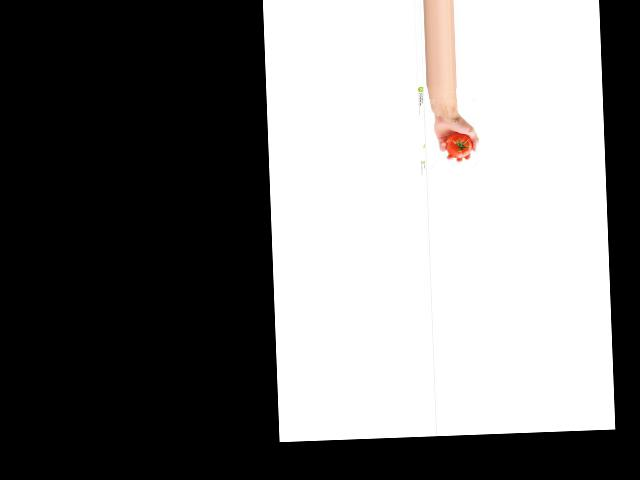tomato: (445, 132, 472, 158)
